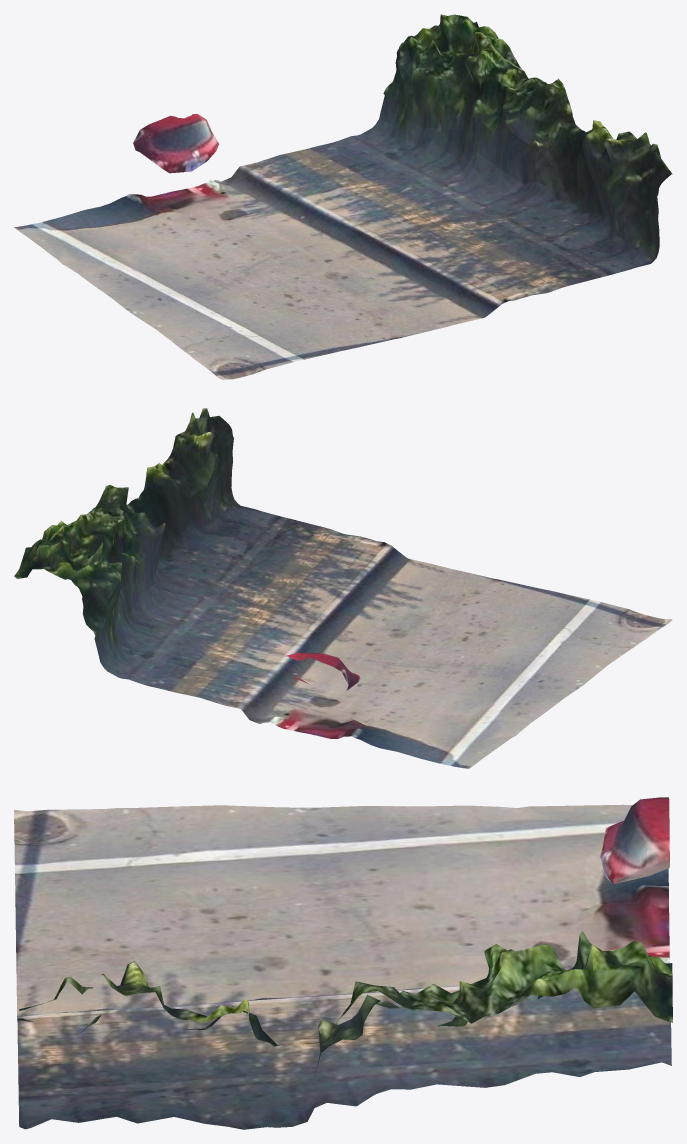
File: Tile_+006_+007_L22_0001200.glb
3 views of the same model, one above another, from view 1: azimuth 30°, elevation 25°; view 2: azimuth 150°, elevation 25°; view 3: azimuth 270°, elevation 25° (orthographic). The views are drawn at different scales.
Visible parts, largest first — view 1: rtc; view 2: rtc; view 3: rtc.
Boxes of the visible parts, left/top/right/bottom form: rtc: left=14, top=14, right=672, bottom=379; rtc: left=14, top=408, right=672, bottom=768; rtc: left=14, top=797, right=672, bottom=1129.
Bounding box in the file's own units: 8.86 × 2.37 × 7.02.
Materials: 1 (1 with a texture image).
